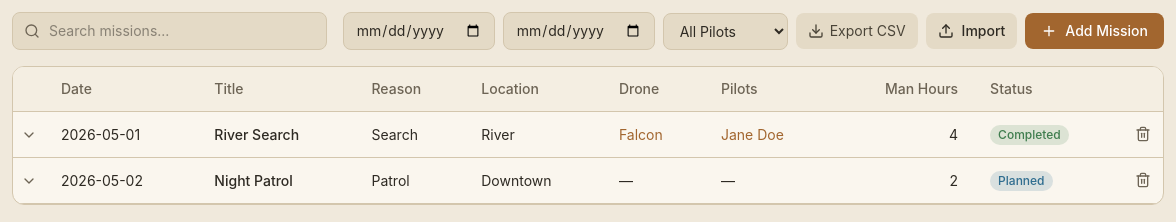
it: MissionLogPage › searches on the server so older missions are reachable
Expected: the text "River Search" is shown, [198,112,356,158]
In the field with placeholder "Search missions...": (169, 31) [12,12,327,50], type "Night"
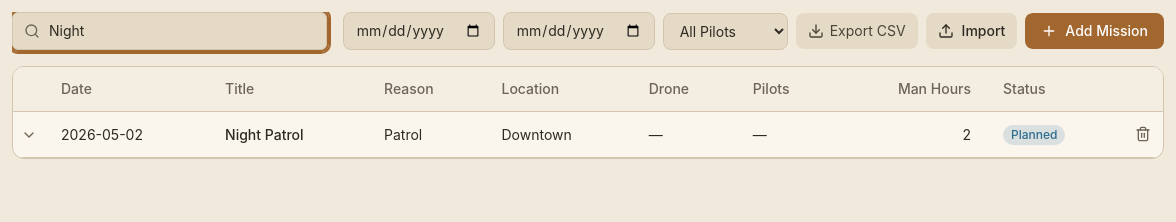
Expected: the text "Night Patrol" is shown, [209,112,368,158]
Expected: the text "River Search" is gone
